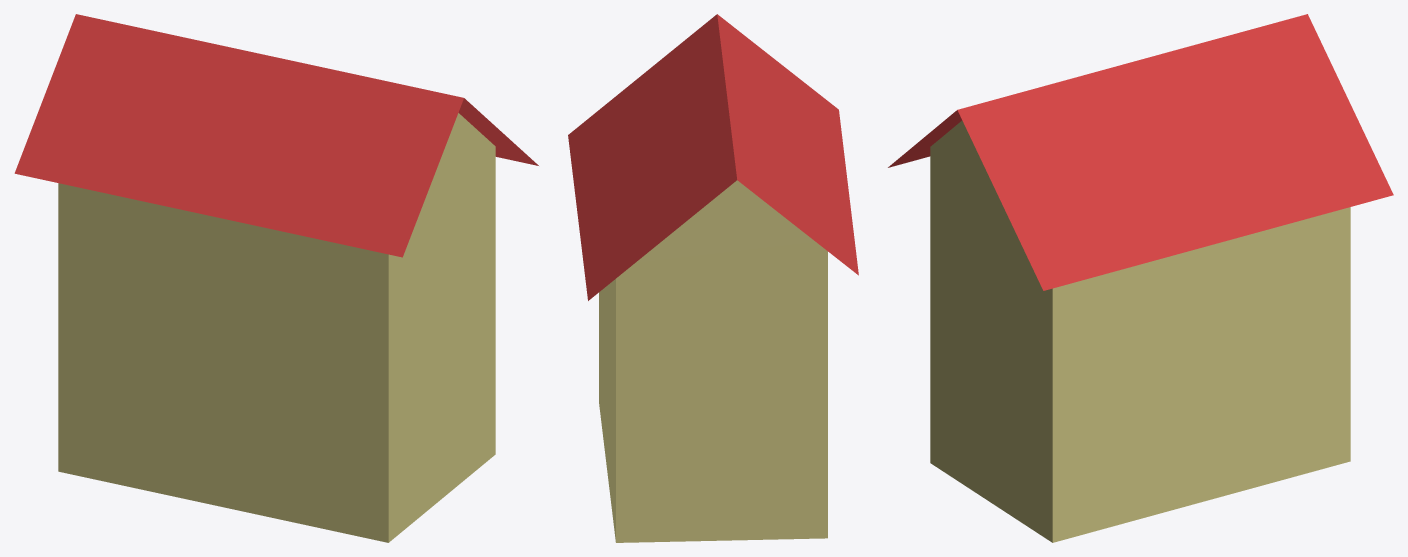
3 renders of one model, left to right at view 1: azimuth 30°, elevation 25°; view 2: azimuth 150°, elevation 25°; view 3: azimuth 270°, elevation 25°, orthographic. The views are drawn at different scales.
Size of the model in its own units: 11.27 by 12.19 by 10.49.
